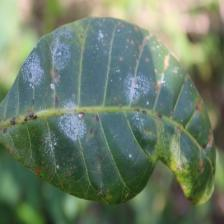red rust: (0, 16, 217, 206)
